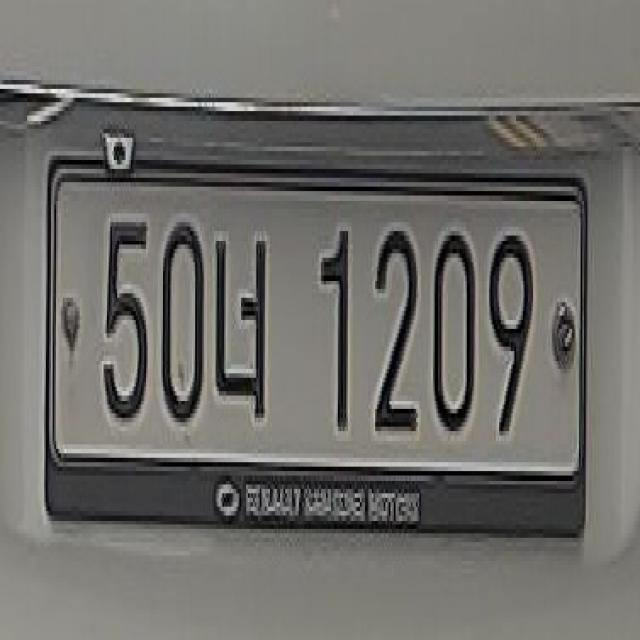0: (156, 203, 207, 438), (430, 216, 480, 455)
1: (318, 220, 357, 450)
2: (366, 217, 426, 454)
5: (100, 201, 150, 432)
9: (486, 221, 539, 452)
license_plate: (36, 142, 594, 546)
neo: (211, 204, 272, 440)
